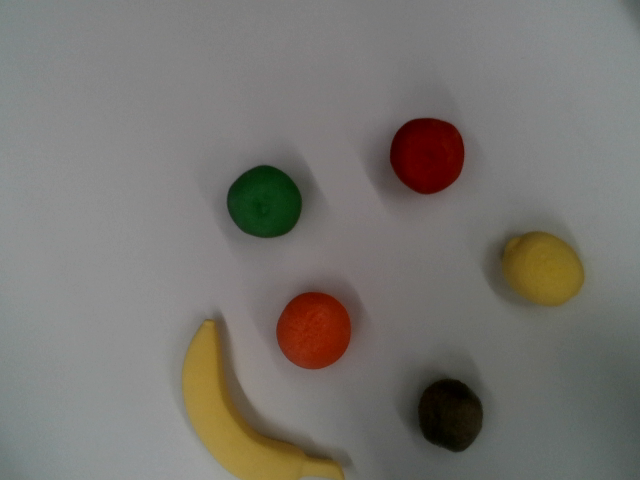banana: (143, 315, 348, 480), (0, 1, 1, 1)
green apple: (213, 152, 316, 255)
lemon: (488, 218, 596, 319)
orange: (264, 280, 363, 380)
red apple: (390, 118, 464, 194)
walnut: (405, 369, 495, 459)
